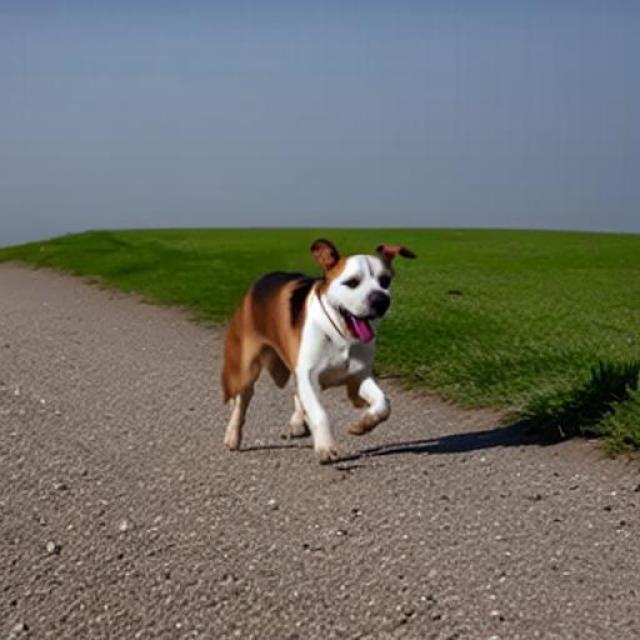Dog: (221, 238, 418, 465)
